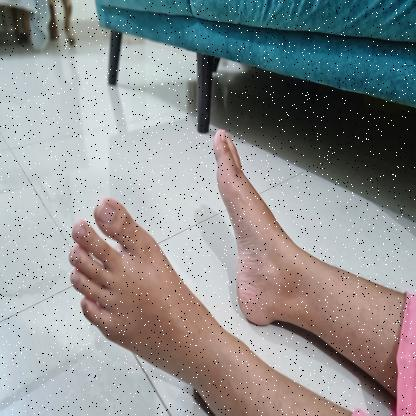leg: (60, 186, 350, 416), (210, 122, 398, 397)
